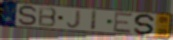B: (38, 6, 59, 28)
E: (112, 12, 134, 34)
I: (89, 10, 98, 32)
J: (66, 10, 83, 29)
S: (133, 14, 157, 36), (17, 4, 38, 27)
